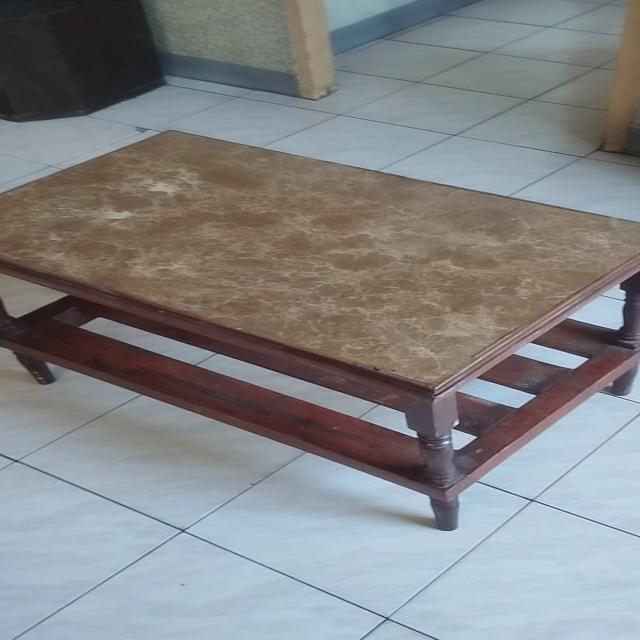table: (0, 132, 640, 530)
